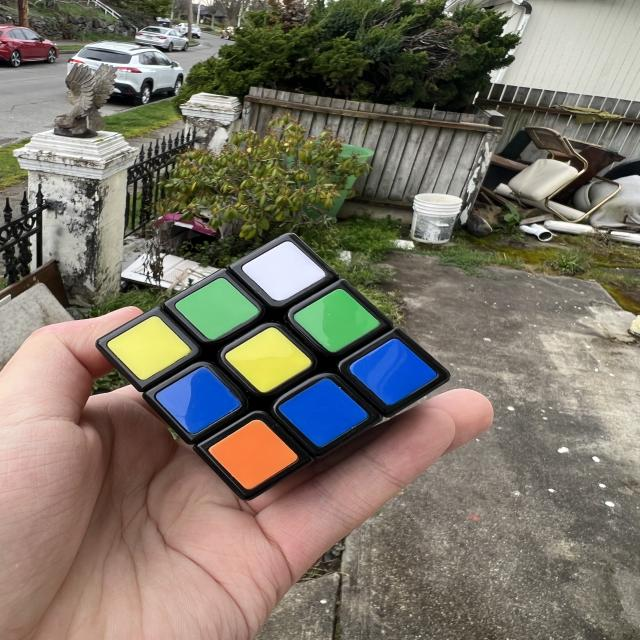blue: (275, 365, 371, 460), (347, 328, 439, 415), (154, 358, 243, 442)
center: (222, 317, 314, 403)
green: (292, 279, 381, 362), (173, 268, 261, 350)
orange: (207, 409, 300, 499)
white: (241, 231, 327, 311)
yellow: (223, 317, 313, 402), (105, 306, 192, 389)
